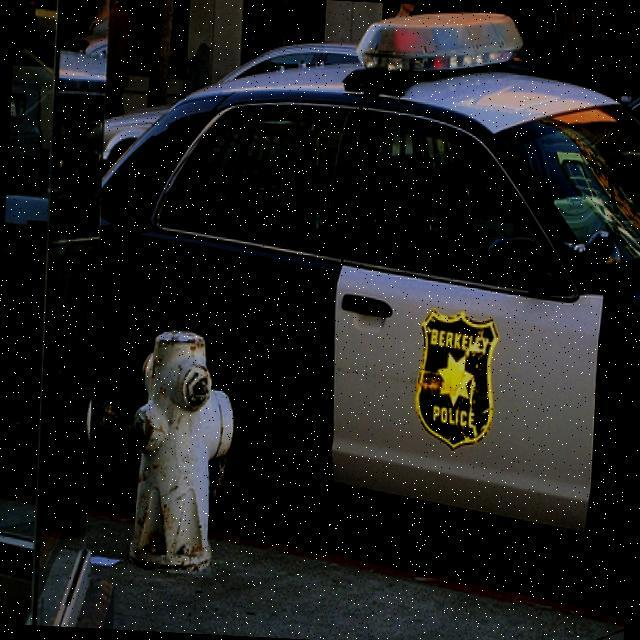fire_hydrant: (120, 324, 238, 572)
